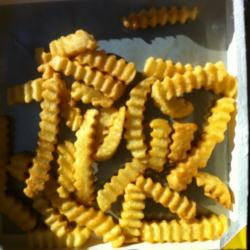fries: (3, 37, 235, 247)
